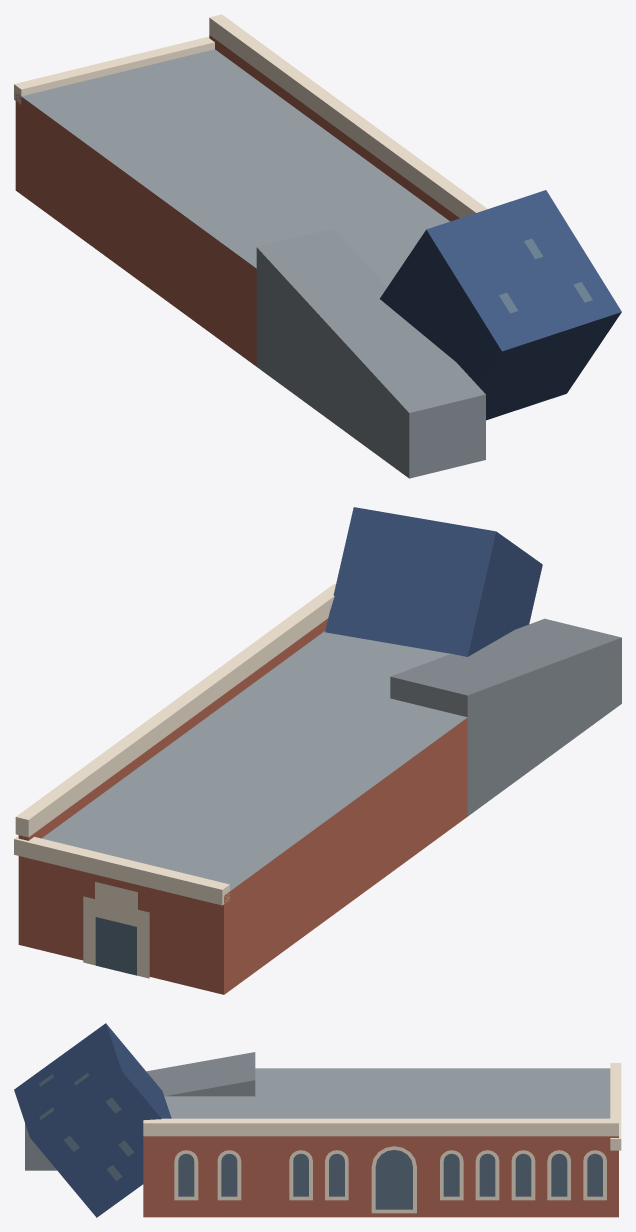
The model's file is sf-contemporary-jewish-museum.glb.
3 renders of one model, top to bottom at view 1: azimuth 30°, elevation 25°; view 2: azimuth 150°, elevation 25°; view 3: azimuth 270°, elevation 25°, orthographic. The views are drawn at different scales.
Visible parts, largest first — view 1: Contemporary Jewish Museum; view 2: Contemporary Jewish Museum; view 3: Contemporary Jewish Museum.
Part boxes in pixels (<box>): Contemporary Jewish Museum: <box>14,14,621,478</box>; Contemporary Jewish Museum: <box>14,507,621,994</box>; Contemporary Jewish Museum: <box>14,1023,621,1217</box>.
Bounding box in the file's own units: 26.23 × 22.35 × 84.77.
